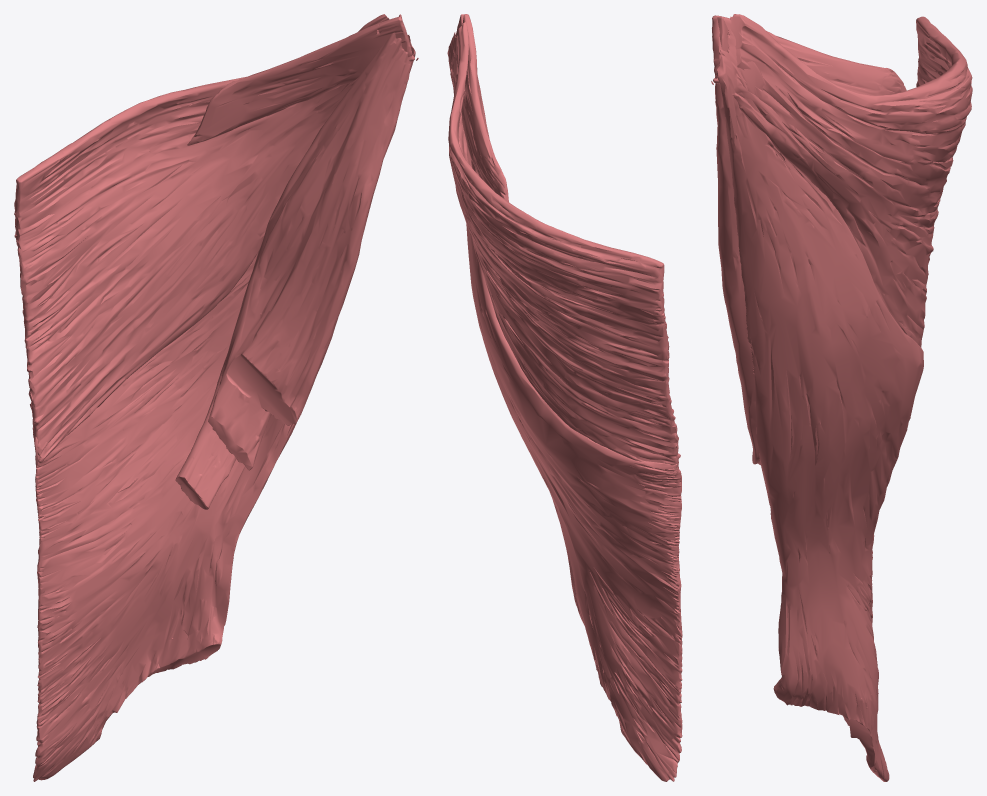
File: BP3D3_FMA13359.glb
The picture shows the model from 3 angles, left to right: view 1: azimuth 30°, elevation 25°; view 2: azimuth 150°, elevation 25°; view 3: azimuth 270°, elevation 25°; orthographic projection. The views are drawn at different scales.
Parts seen in each view (by area): view 1: BP3D3_FMA13359; view 2: BP3D3_FMA13359; view 3: BP3D3_FMA13359.
Part boxes in pixels (x1,y1,x2,y2): BP3D3_FMA13359: [14, 14, 418, 781]; BP3D3_FMA13359: [447, 14, 682, 781]; BP3D3_FMA13359: [711, 14, 972, 781].
Size of the model in its own units: 0.1787 by 0.3952 by 0.0991.
